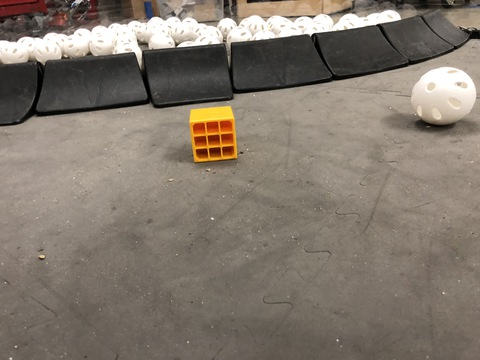ball: (389, 65, 480, 138)
block: (171, 100, 252, 173)
